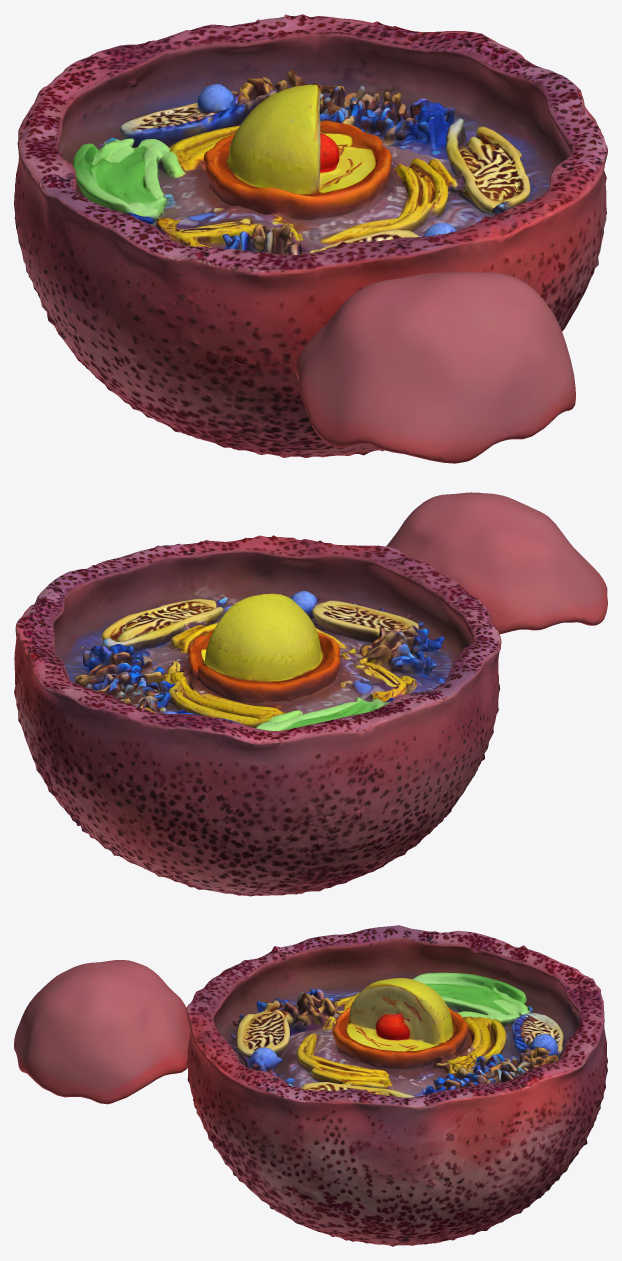
Rendered from d1a7ba23-3dea-479f-8e37-ad895321d591.glb.
The picture shows the model from 3 angles, top to bottom: view 1: azimuth 30°, elevation 25°; view 2: azimuth 150°, elevation 25°; view 3: azimuth 270°, elevation 25°; orthographic projection. The views are drawn at different scales.
Visible parts, largest first — view 1: tripo_node_407038c5-3154-4358-b7de-572ad5f776f6; view 2: tripo_node_407038c5-3154-4358-b7de-572ad5f776f6; view 3: tripo_node_407038c5-3154-4358-b7de-572ad5f776f6.
Part boxes in pixels (left/top/right/bottom): tripo_node_407038c5-3154-4358-b7de-572ad5f776f6: left=14, top=14, right=607, bottom=463; tripo_node_407038c5-3154-4358-b7de-572ad5f776f6: left=14, top=492, right=607, bottom=896; tripo_node_407038c5-3154-4358-b7de-572ad5f776f6: left=14, top=925, right=607, bottom=1246.
Bounding box in the file's own units: 0.7147 × 0.4453 × 0.9999.
1 material, 1 textured.
